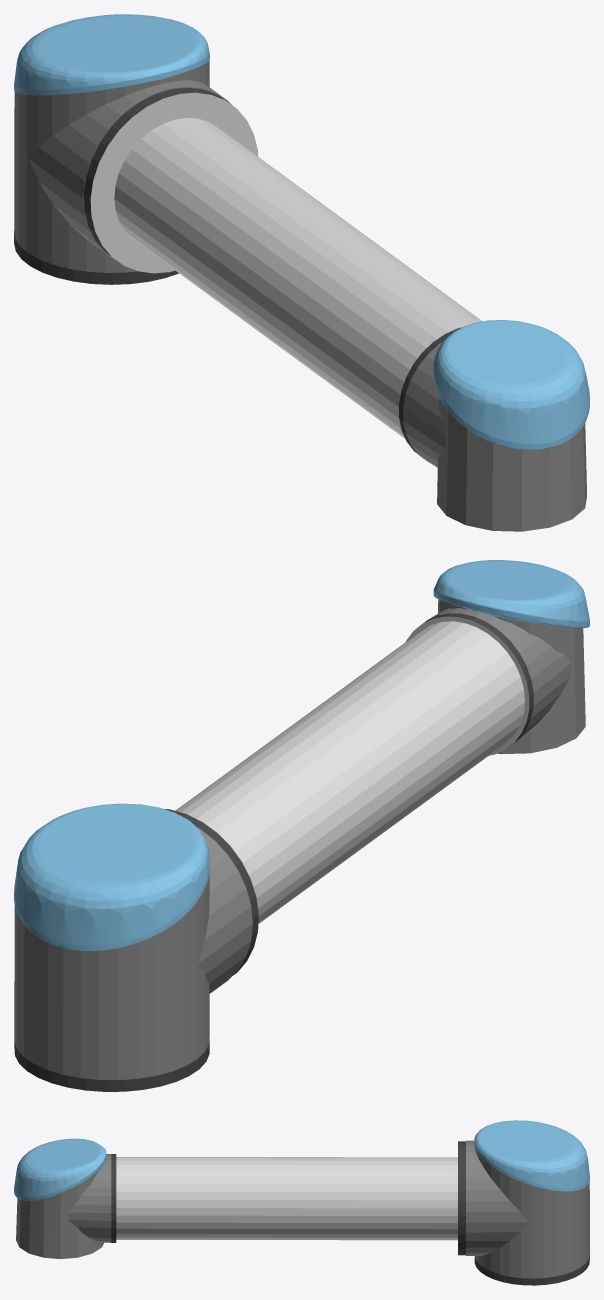
3 renders of one model, top to bottom at view 1: azimuth 30°, elevation 25°; view 2: azimuth 150°, elevation 25°; view 3: azimuth 270°, elevation 25°, orthographic. The views are drawn at different scales.
Visible parts, largest first — view 1: Node_0000017FEC30F1B0 (×8); view 2: Node_0000017FEC30F1B0 (×8); view 3: Node_0000017FEC30F1B0 (×8).
Part boxes in pixels (x1,y1,x2,y2): Node_0000017FEC30F1B0 (×8): (14,14,589,531); Node_0000017FEC30F1B0 (×8): (14,560,589,1091); Node_0000017FEC30F1B0 (×8): (14,1120,589,1285).
Size of the model in its own units: 0.1504 by 0.1772 by 0.7477.
